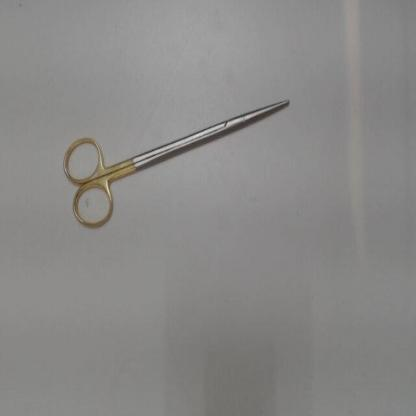7 Metzenbaum Scissors: (59, 94, 293, 235)
